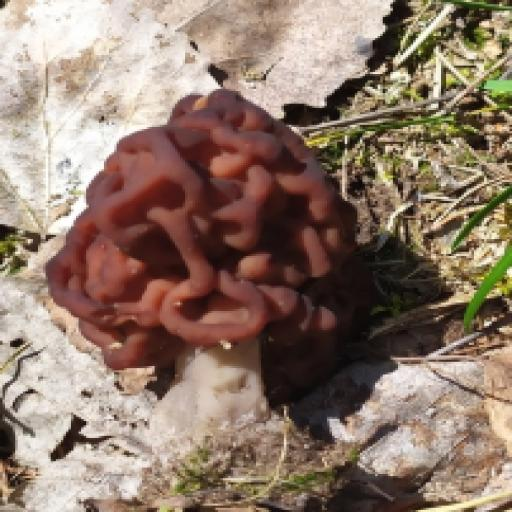False Morel: (15, 68, 398, 481)
